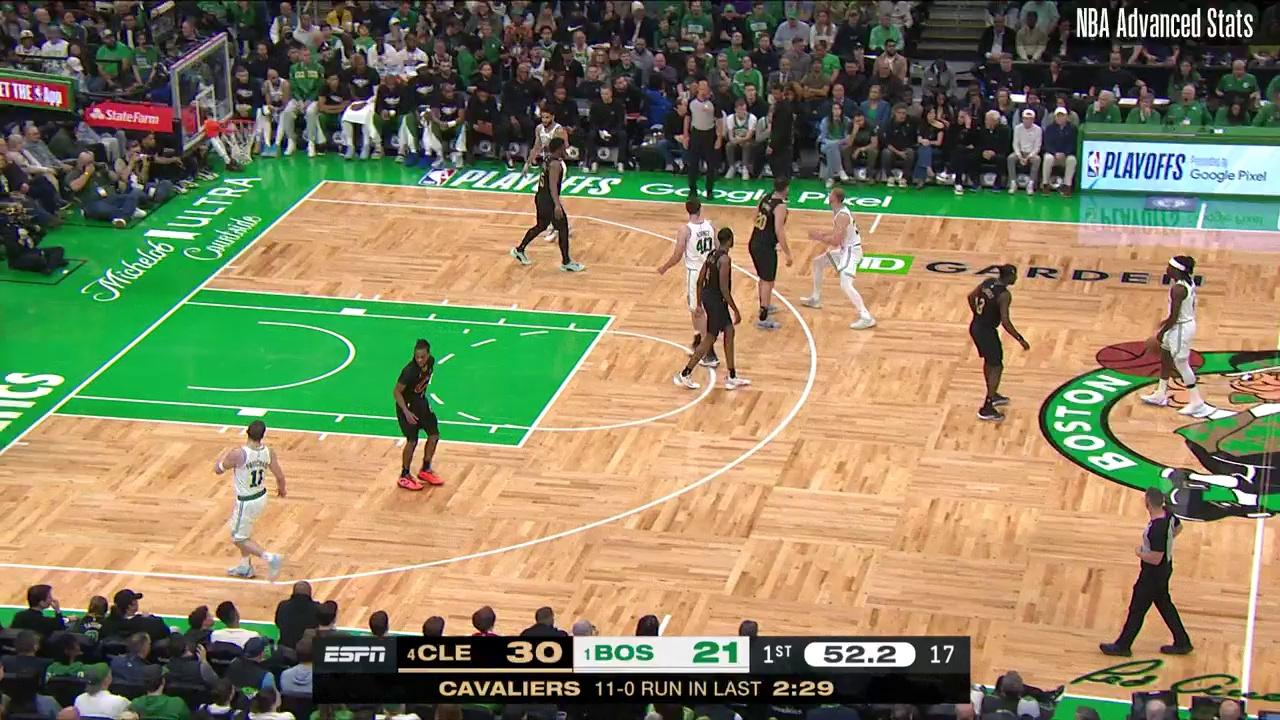3_dx: (299, 194, 309, 203)
b_dx: (319, 176, 329, 187)
free_adx: (607, 311, 619, 322)
free_asx: (515, 442, 524, 451)
free_bdx: (194, 283, 206, 293)
free_bsx: (44, 407, 56, 419)
mid_dx: (865, 227, 877, 238)
mid_sx: (663, 609, 675, 621)
referee: (1096, 489, 1198, 655), (679, 80, 727, 204)
team: (211, 421, 288, 584), (1137, 252, 1212, 416), (656, 197, 716, 361), (807, 188, 875, 331), (523, 109, 572, 245)
team1: (672, 226, 753, 389), (967, 262, 1031, 420), (515, 138, 586, 271), (392, 336, 442, 493), (745, 176, 791, 334)
timer: (813, 635, 904, 672)
